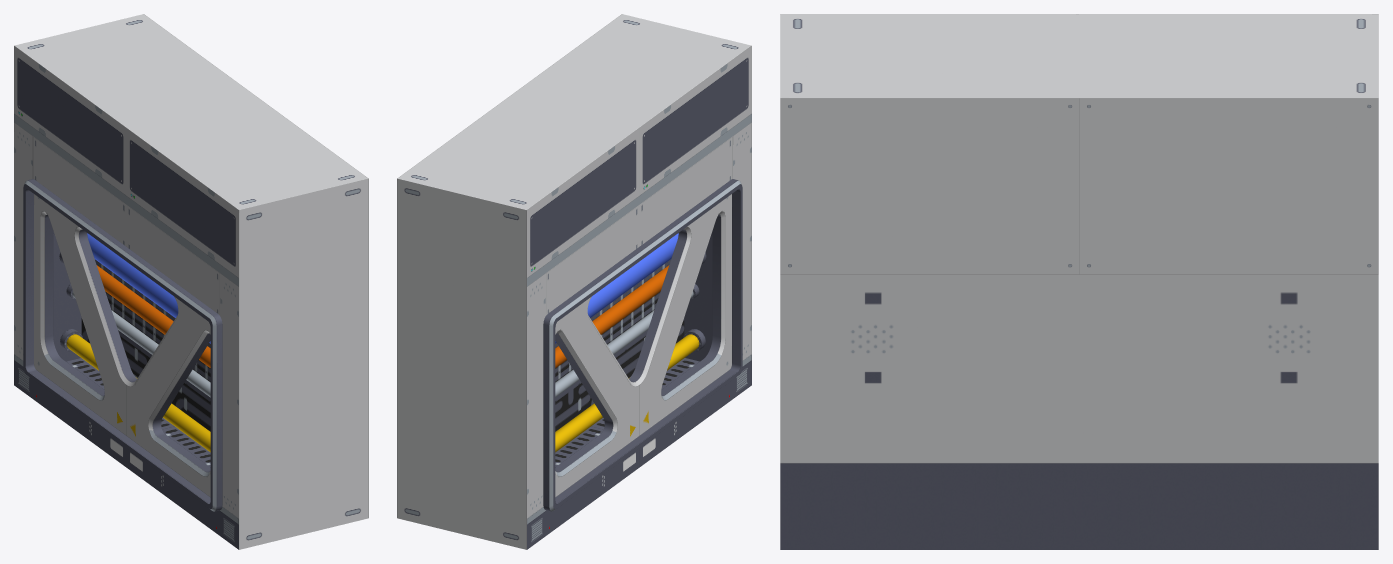
Rendered from Wall_Normal_Simple_09.FBX.
3 views of the same model, side by side, from view 1: azimuth 30°, elevation 25°; view 2: azimuth 150°, elevation 25°; view 3: azimuth 270°, elevation 25° (orthographic). The views are drawn at different scales.
Visible parts, largest first — view 1: Wall_Normal_Simple_09, Pipes; view 2: Wall_Normal_Simple_09, Pipes; view 3: Wall_Normal_Simple_09.
Boxes of the visible parts, x1,y1,x2,y2 form: Wall_Normal_Simple_09: (14, 14, 368, 549); Pipes: (53, 231, 210, 452); Wall_Normal_Simple_09: (397, 14, 751, 549); Pipes: (555, 231, 712, 452); Wall_Normal_Simple_09: (780, 14, 1378, 549).
Size of the model in its own units: 2.13 by 5 by 6.
Materials: 5 (5 with a texture image).
